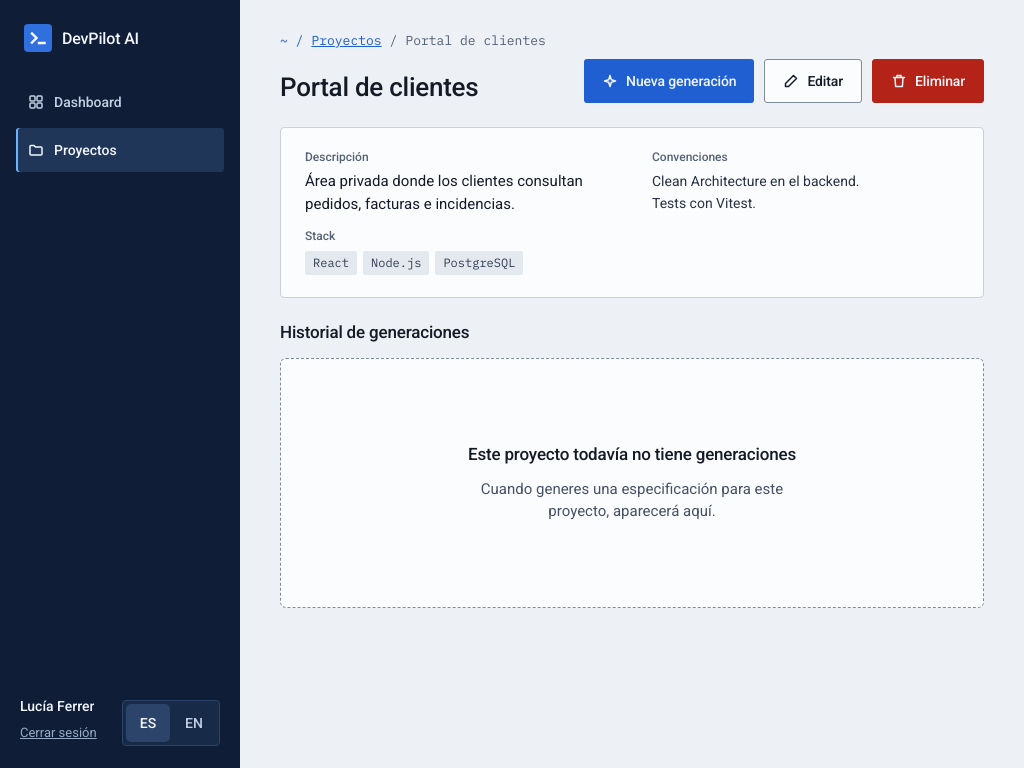
Test case: editing a project › saves the changes and goes back to the project
Click the link "Editar" at (813, 81), box [764,59,862,103]
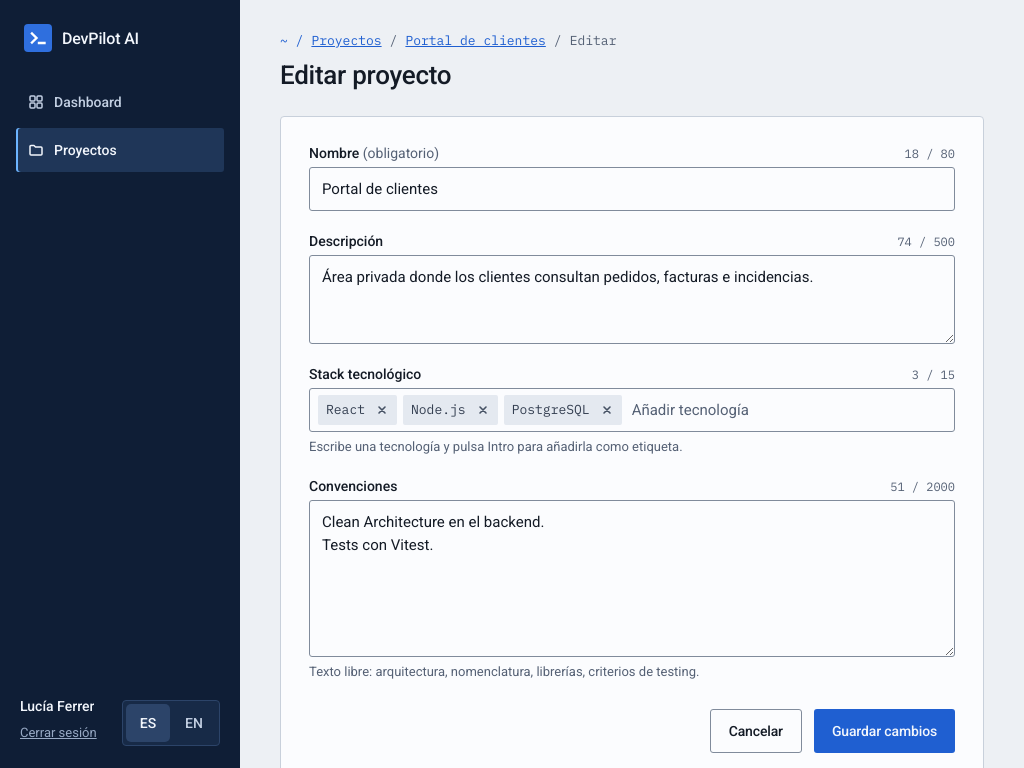
Check: the field labelled "Nombre (obligatorio)" holds "Portal de clientes"
Replace the text in the field labelled "Nombre (obligatorio)" with "Portal B2B" at (632, 188), box [309,166,955,210]
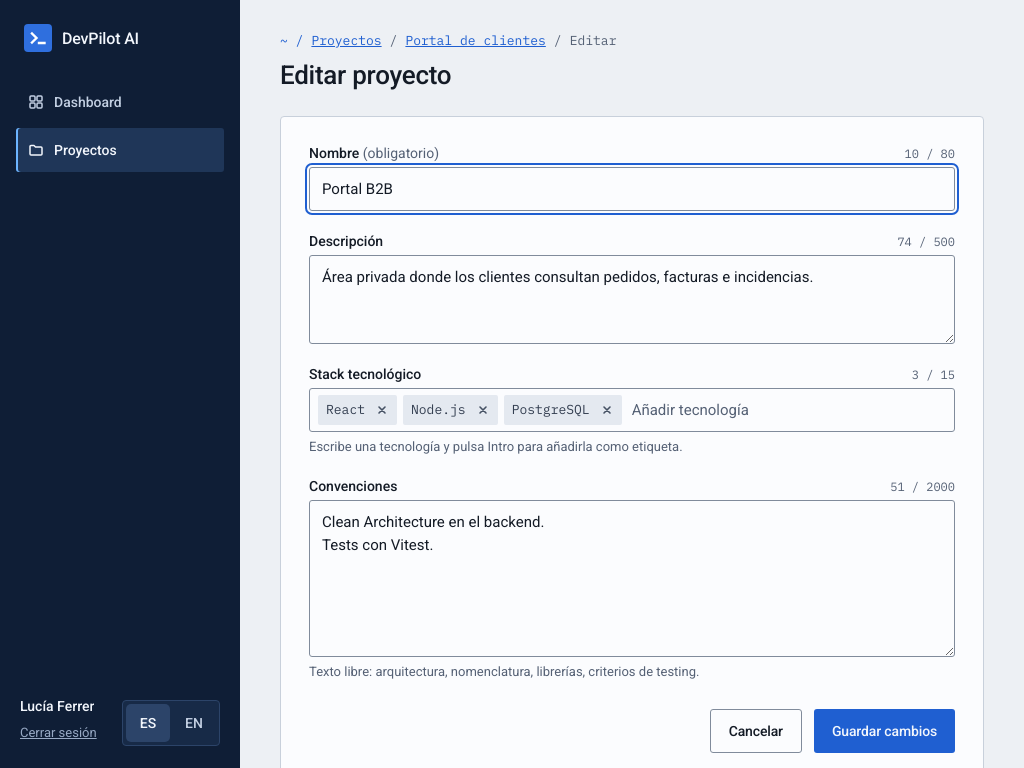
Click the button named "Quitar React" at (382, 410), box [369,397,395,423]
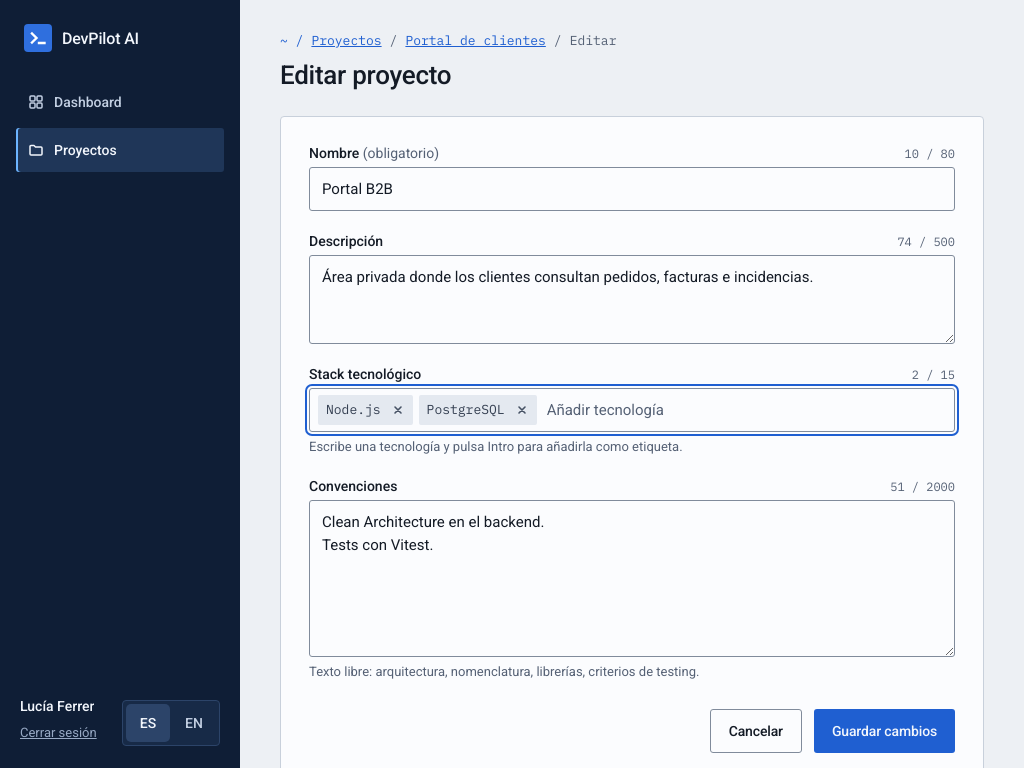
Click the button "Guardar cambios" at (884, 731), box [814,709,955,753]
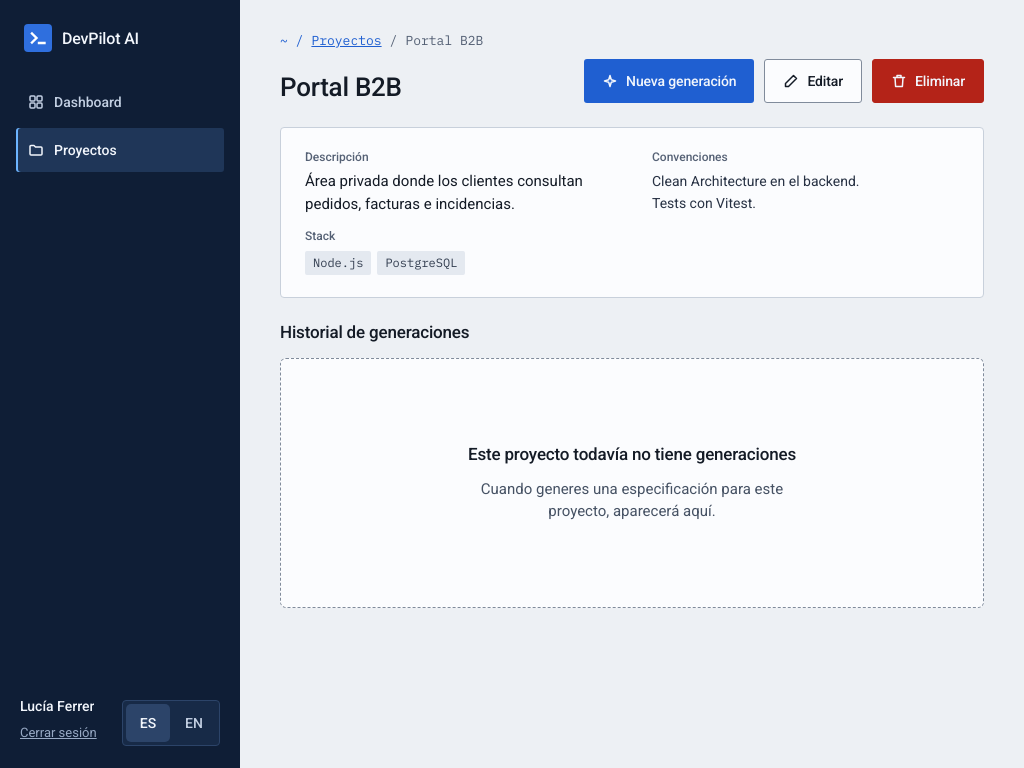
Check: the text "React" is not shown
Check: the heading "Portal B2B" is shown, box [280,70,402,103]
